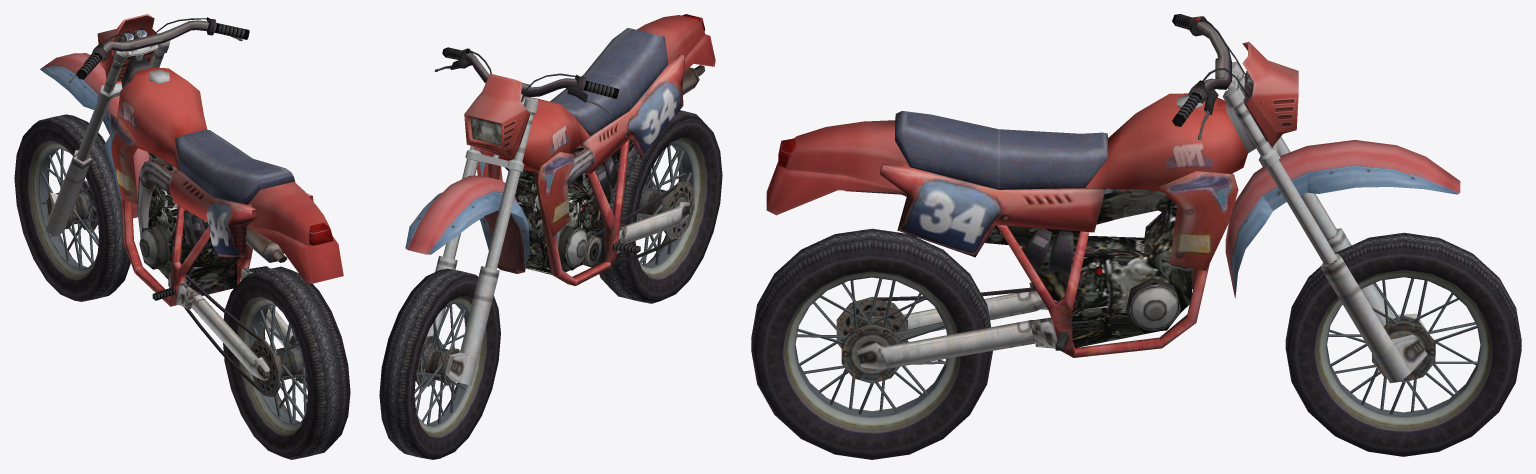
The model's file is Model_Bikes_CrossBike.fbx.
3 renders of one model, left to right at view 1: azimuth 30°, elevation 25°; view 2: azimuth 150°, elevation 25°; view 3: azimuth 270°, elevation 25°, orthographic. The views are drawn at different scales.
Visible parts, largest first — view 1: CrossBike; view 2: CrossBike; view 3: CrossBike.
Boxes of the visible parts, left/top/right/bottom form: CrossBike: left=14, top=14, right=350, bottom=459; CrossBike: left=379, top=14, right=722, bottom=459; CrossBike: left=751, top=14, right=1521, bottom=459.
Size of the model in its own units: 77.52 by 139 by 238.
